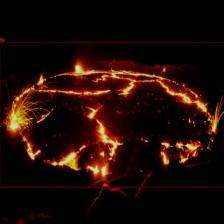fire: (0, 42, 224, 187)
